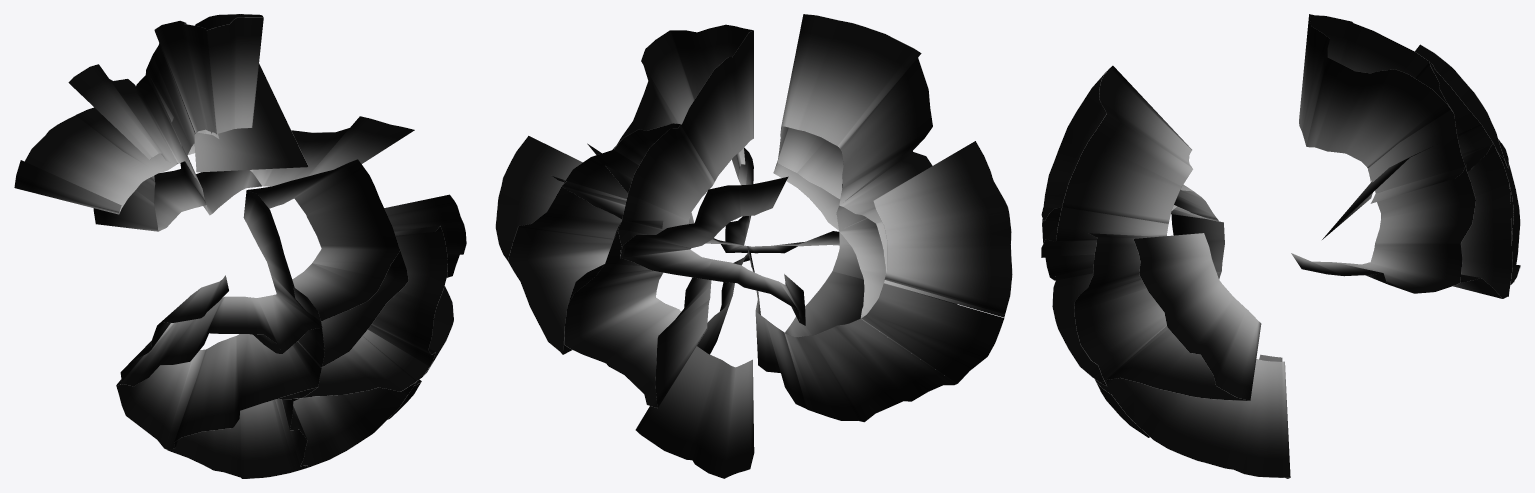
Rendered from lieguang_A1.FBX.
3 views of the same model, side by side, from view 1: azimuth 30°, elevation 25°; view 2: azimuth 150°, elevation 25°; view 3: azimuth 270°, elevation 25° (orthographic). The views are drawn at different scales.
Visible parts, largest first — view 1: lieguang_A1; view 2: lieguang_A1; view 3: lieguang_A1.
Boxes of the visible parts, <box> form: lieguang_A1: <box>14,14,466,478</box>; lieguang_A1: <box>495,14,1012,478</box>; lieguang_A1: <box>1041,14,1520,478</box>.
Size of the model in its own units: 186 by 206 by 206.
